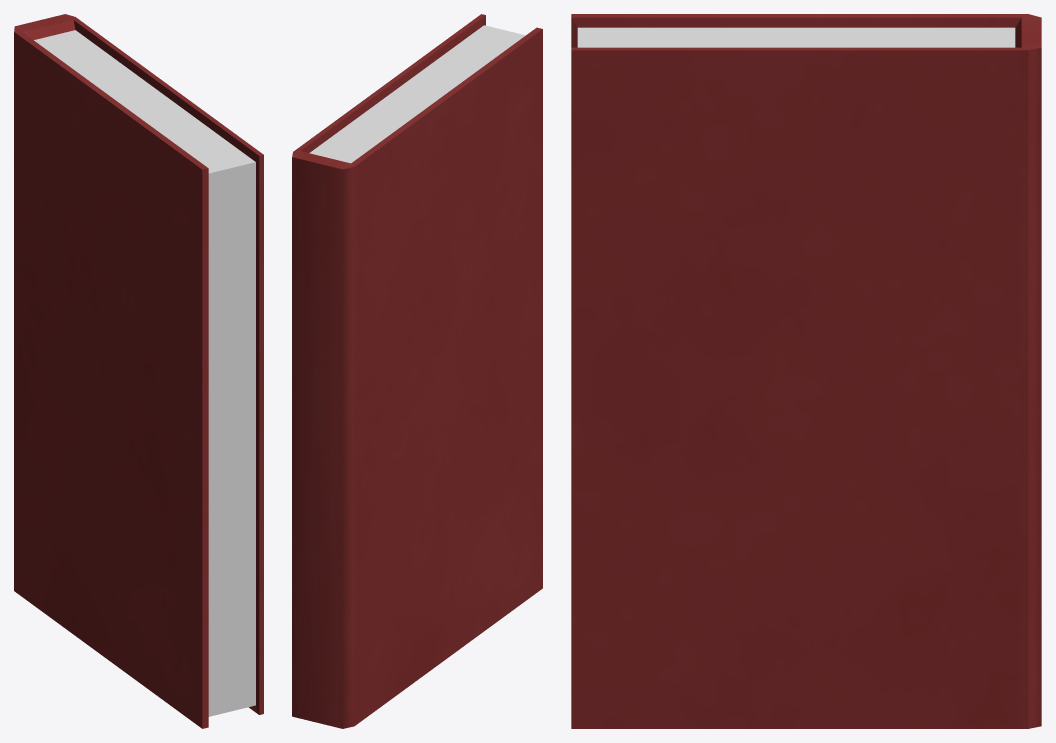
The model's file is LibroRojo.fbx.
3 views of the same model, side by side, from view 1: azimuth 30°, elevation 25°; view 2: azimuth 150°, elevation 25°; view 3: azimuth 270°, elevation 25° (orthographic). The views are drawn at different scales.
Visible parts, largest first — view 1: LibroRojo; view 2: LibroRojo; view 3: LibroRojo.
Boxes of the visible parts, x1,y1,x2,y2 form: LibroRojo: (14, 14, 263, 728); LibroRojo: (292, 14, 542, 728); LibroRojo: (571, 14, 1041, 728).
Size of the model in its own units: 0.1092 by 0.9506 by 0.5973.
2 materials, 1 textured.
